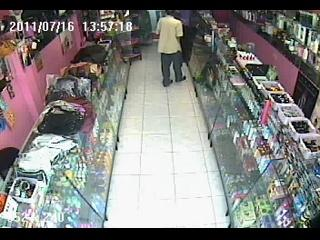Normal: (156, 10, 187, 88)
